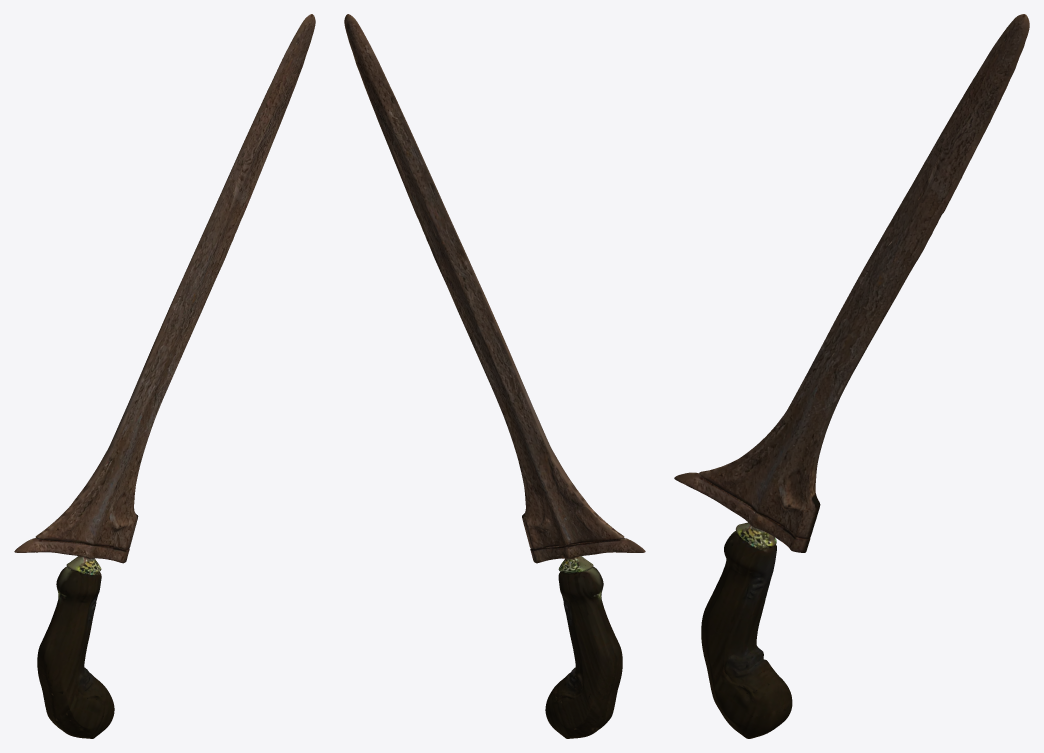
The model's file is keris-2-fixed.glb.
3 views of the same model, side by side, from view 1: azimuth 30°, elevation 25°; view 2: azimuth 150°, elevation 25°; view 3: azimuth 330°, elevation 25° (orthographic). The views are drawn at different scales.
Visible parts, largest first — view 1: node_0.001; view 2: node_0.001; view 3: node_0.001.
Boxes of the visible parts, <box> form: node_0.001: <box>14,14,315,738</box>; node_0.001: <box>344,14,645,738</box>; node_0.001: <box>674,14,1029,738</box>.
Size of the model in its own units: 0.3552 by 0.75 by 0.0494.
1 material, 1 textured.
